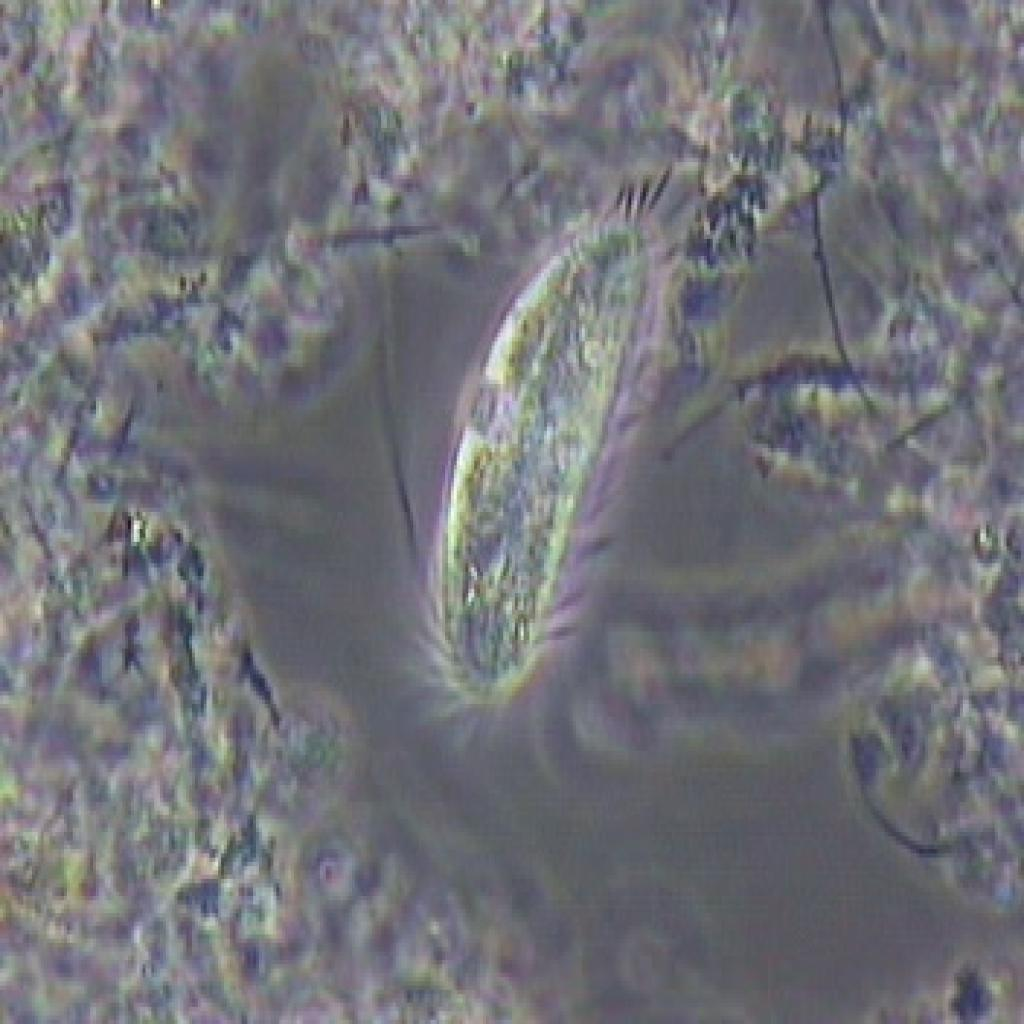Stylonychia: (384, 143, 681, 757)
